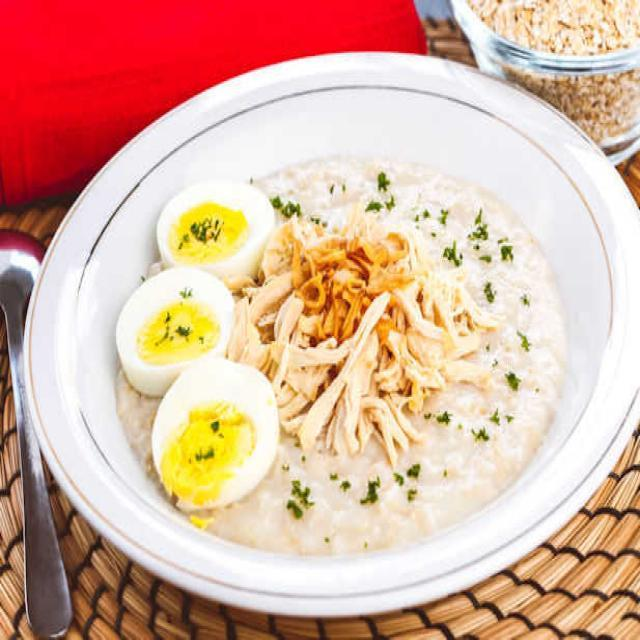bubur ayam: (120, 154, 568, 566)
mangkuk: (13, 52, 640, 618), (448, 2, 640, 168)
telur rebus: (152, 354, 280, 514), (115, 264, 234, 398), (156, 180, 276, 286)
